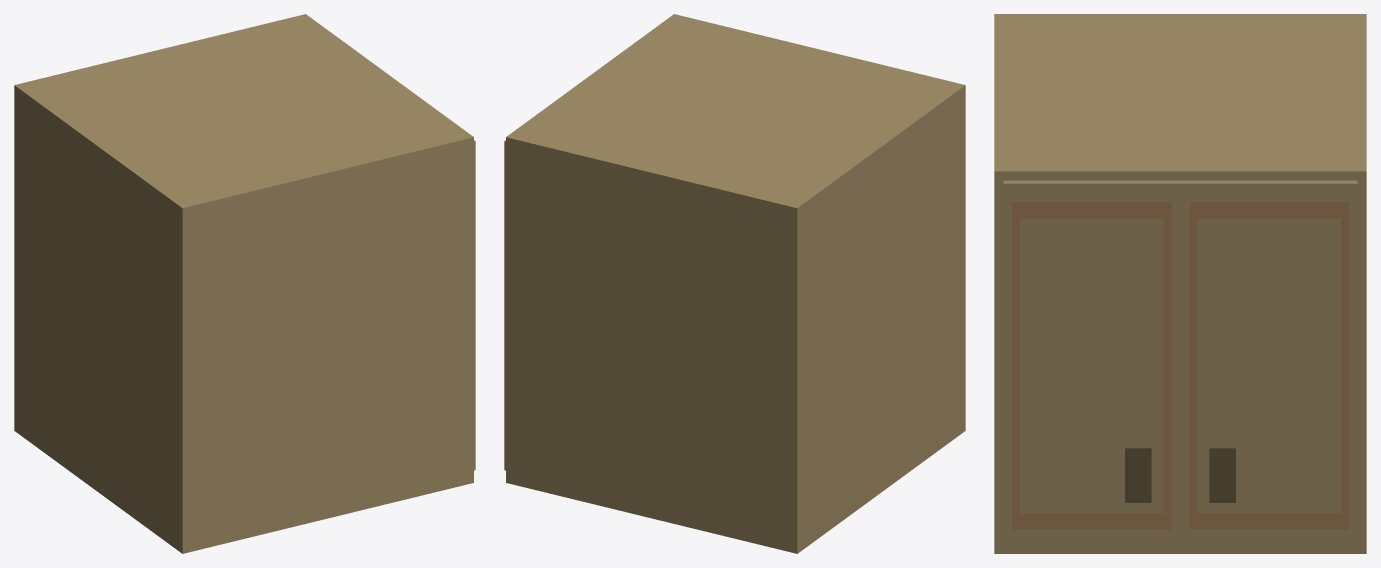
File: hangCabinet.fbx
3 renders of one model, left to right at view 1: azimuth 30°, elevation 25°; view 2: azimuth 150°, elevation 25°; view 3: azimuth 270°, elevation 25°, orthographic. The views are drawn at different scales.
Parts seen in each view (by area): view 1: hangCabinet, Door_right; view 2: hangCabinet, Door_left; view 3: hangCabinet, Door_right, Door_left.
Part boxes in pixels (x1,y1,x2,y2): hangCabinet: (14, 14, 473, 553); Door_right: (474, 140, 475, 470); hangCabinet: (506, 14, 965, 553); Door_left: (504, 140, 505, 470); hangCabinet: (994, 14, 1366, 553); Door_right: (1003, 180, 1180, 547); Door_left: (1180, 180, 1357, 547).
Bounding box in the file's own units: 204 × 227 × 200.
